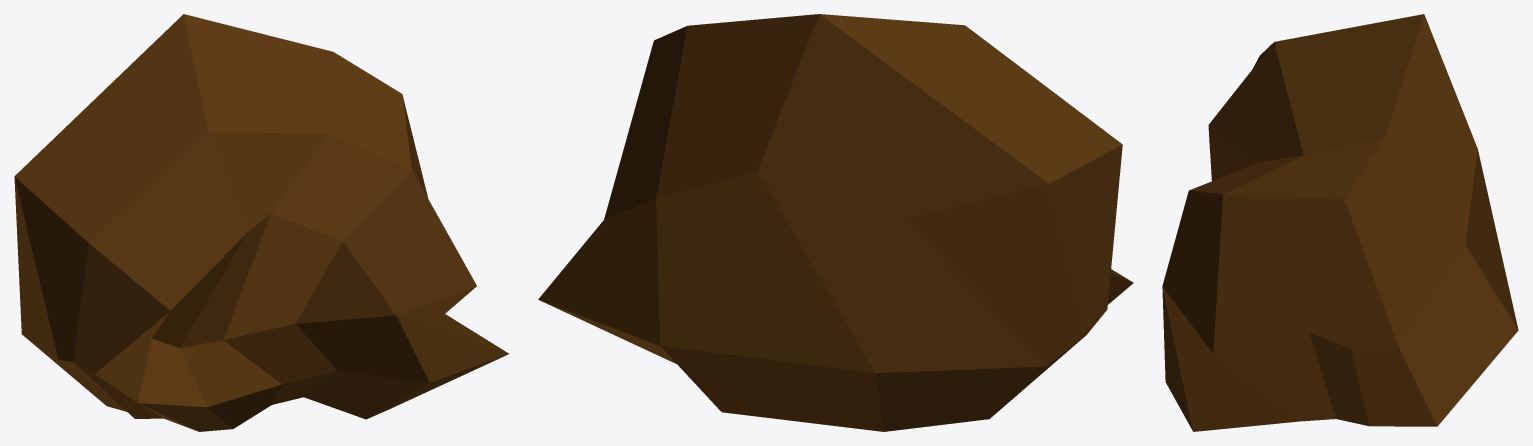
The model's file is Rock_C.fbx.
The picture shows the model from 3 angles, left to right: view 1: azimuth 30°, elevation 25°; view 2: azimuth 150°, elevation 25°; view 3: azimuth 270°, elevation 25°; orthographic projection. The views are drawn at different scales.
Visible parts, largest first — view 1: Rock_C; view 2: Rock_C; view 3: Rock_C.
Part boxes in pixels (x1,y1,x2,y2): Rock_C: (14,14,508,431); Rock_C: (538,14,1133,431); Rock_C: (1162,14,1518,431).
Size of the model in its own units: 4.71 by 3.46 by 3.8.
